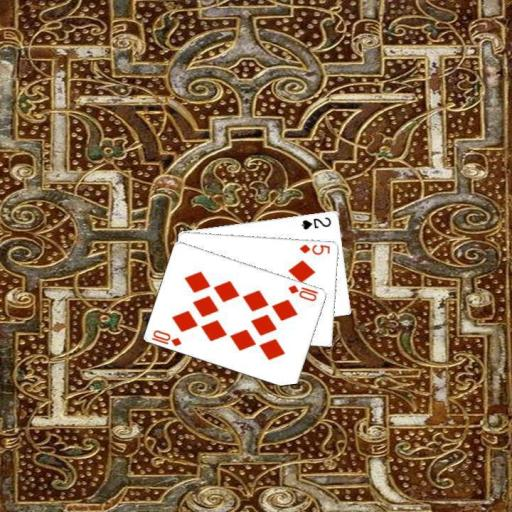card-corner: (148, 326, 184, 348), (285, 282, 319, 303), (298, 214, 333, 230), (296, 241, 332, 256)
